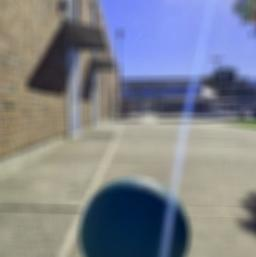algae: (76, 175, 192, 257)
